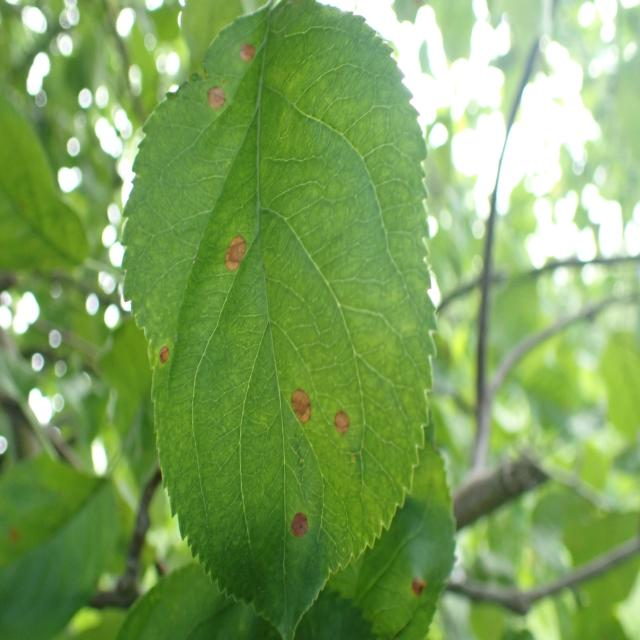Black Rot: (209, 219, 264, 286), (277, 375, 318, 434), (275, 506, 320, 551), (199, 68, 232, 122), (148, 340, 184, 388), (409, 548, 430, 629), (323, 404, 363, 446), (227, 30, 264, 70)
